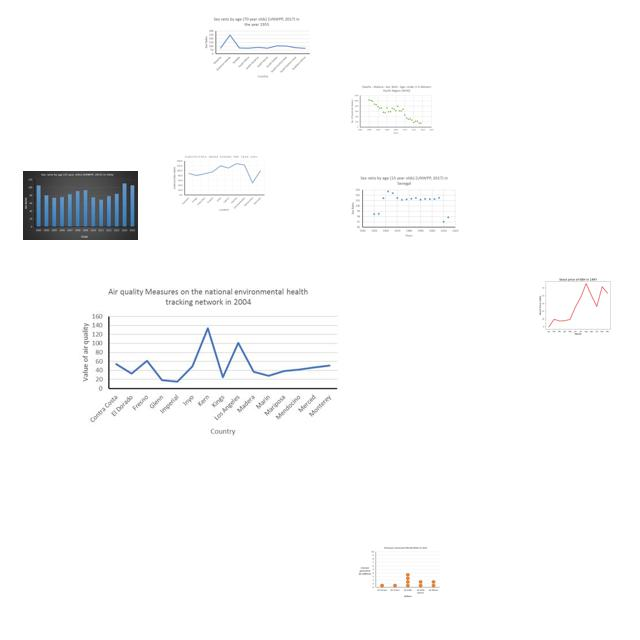Graph: (74, 283, 341, 442), (23, 171, 138, 240), (348, 174, 460, 239), (202, 15, 311, 79), (532, 274, 622, 336), (171, 154, 266, 211), (358, 546, 441, 599), (349, 85, 435, 135)
